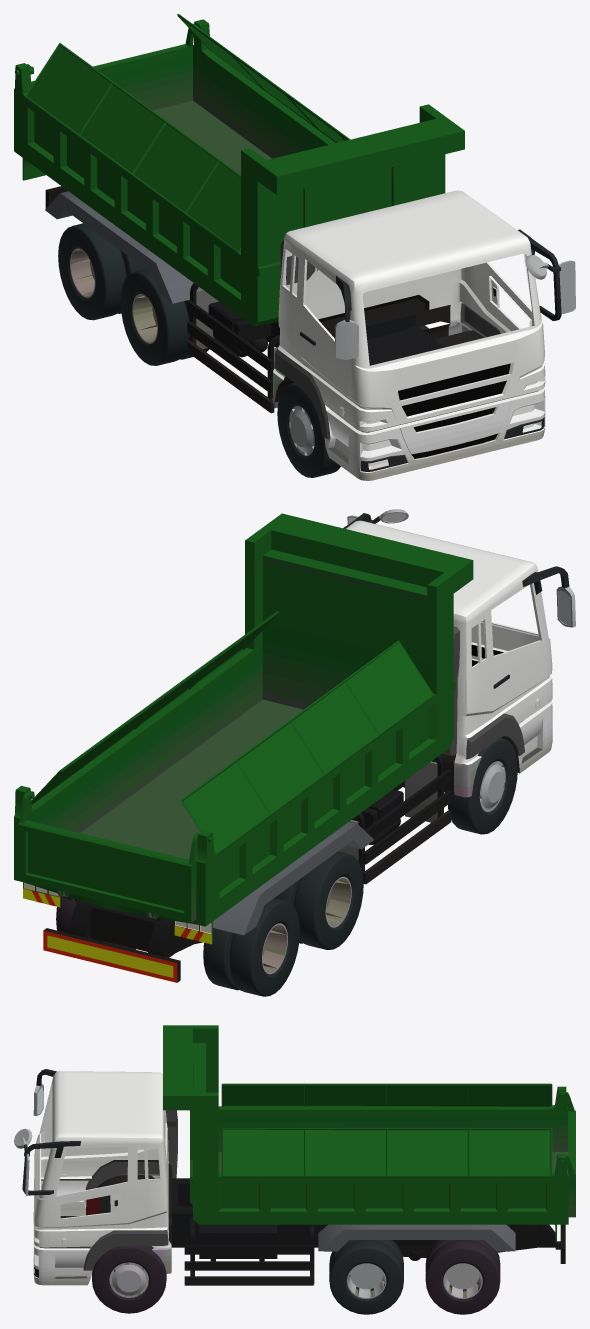
File: tipper.glb
3 views of the same model, one above another, from view 1: azimuth 30°, elevation 25°; view 2: azimuth 150°, elevation 25°; view 3: azimuth 270°, elevation 25° (orthographic). The views are drawn at different scales.
Visible parts, largest first — view 1: Cabin_4, Dump Box_7, Boards_5, Platform_8, Wheel R-2-r_14, Wheel R-1-r_12, Door_6, Wheel F-r_10; view 2: Dump Box_7, Boards_5, Cabin_4, Platform_8, Door_6, Wheel R-2-r_14, Wheel R-1-r_12, Wheel F-r_10, Cabin.001_1; view 3: Dump Box_7, Cabin_4, Boards_5, Platform_8, Wheel R-2-L_13, Wheel R-1-L_11, Wheel F-l_9, Door_6, Cabin.001_1.
Part boxes in pixels (x1=…): Cabin_4: x1=272, y1=190, x2=575, y2=480; Dump Box_7: x1=14, y1=19, x2=464, y2=326; Boards_5: x1=24, y1=14, x2=350, y2=254; Platform_8: x1=45, y1=186, x2=444, y2=413; Wheel R-2-r_14: x1=58, y1=223, x2=145, y2=320; Wheel R-1-r_12: x1=120, y1=269, x2=209, y2=365; Door_6: x1=15, y1=23, x2=209, y2=110; Wheel F-r_10: x1=277, y1=383, x2=340, y2=477; Dump Box_7: x1=14, y1=513, x2=473, y2=944; Boards_5: x1=31, y1=611, x2=434, y2=855; Cabin_4: x1=343, y1=509, x2=575, y2=797; Platform_8: x1=43, y1=755, x2=451, y2=982; Door_6: x1=15, y1=791, x2=213, y2=922; Wheel R-2-r_14: x1=203, y1=898, x2=299, y2=996; Wheel R-1-r_12: x1=275, y1=851, x2=363, y2=949; Wheel F-r_10: x1=448, y1=738, x2=517, y2=834; Cabin.001_1: x1=442, y1=626, x2=459, y2=755; Dump Box_7: x1=163, y1=1025, x2=568, y2=1251; Cabin_4: x1=14, y1=1069, x2=171, y2=1285; Boards_5: x1=221, y1=1083, x2=552, y2=1177; Platform_8: x1=86, y1=1178, x2=565, y2=1285; Wheel R-2-L_13: x1=425, y1=1240, x2=500, y2=1314; Wheel R-1-L_11: x1=329, y1=1240, x2=403, y2=1314; Wheel F-l_9: x1=92, y1=1245, x2=166, y2=1313; Door_6: x1=556, y1=1091, x2=575, y2=1217; Cabin.001_1: x1=166, y1=1110, x2=177, y2=1178.
Size of the model in its own units: 3.13 by 3.66 by 8.54.
Materials: 2 (2 with a texture image).
